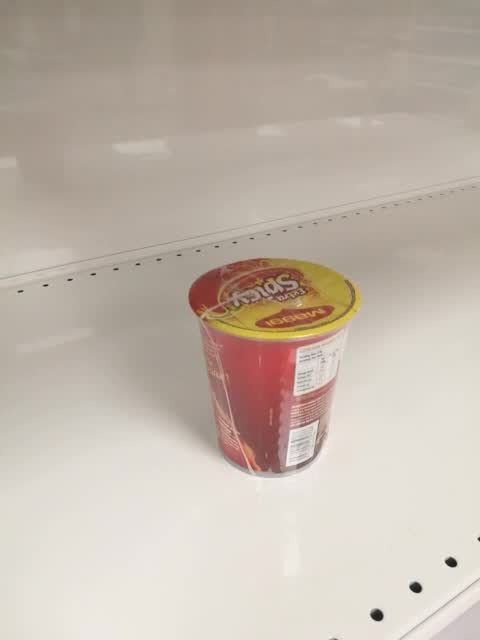maggi: (186, 256, 362, 479)
